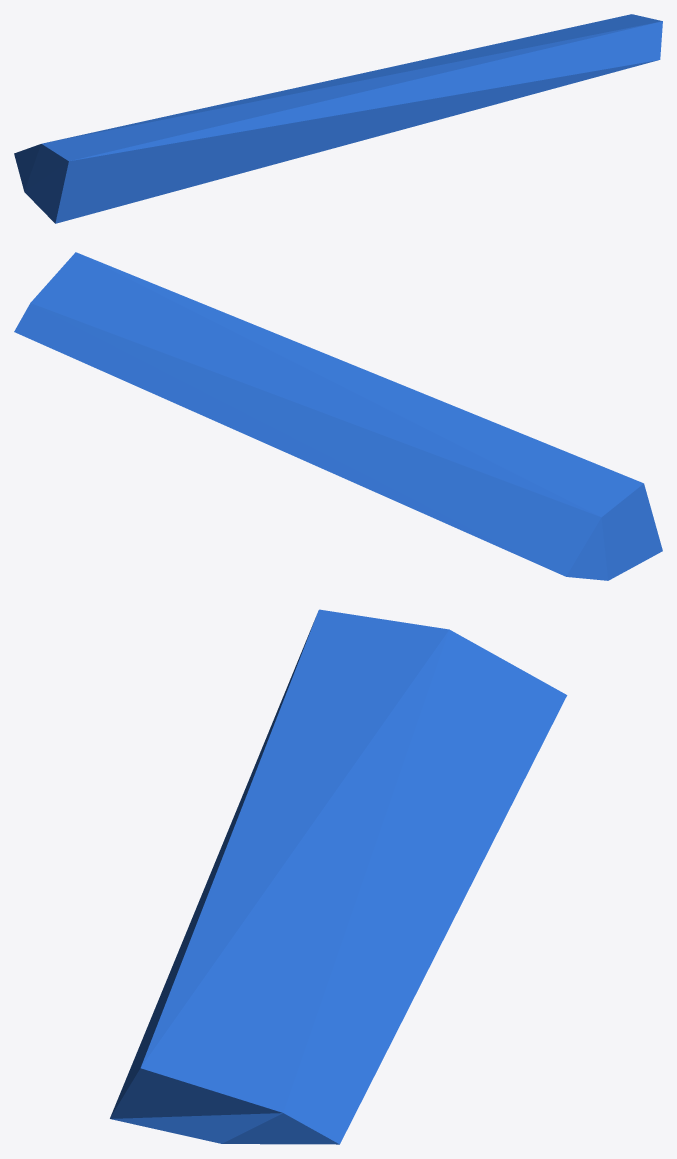
File: aileron.dae
The picture shows the model from 3 angles, top to bottom: view 1: azimuth 30°, elevation 25°; view 2: azimuth 150°, elevation 25°; view 3: azimuth 270°, elevation 25°; orthographic projection. The views are drawn at different scales.
Parts seen in each view (by area): view 1: Cylinder_001; view 2: Cylinder_001; view 3: Cylinder_001.
Part boxes in pixels (x1,y1,x2,y2): Cylinder_001: [14, 14, 662, 223]; Cylinder_001: [14, 252, 662, 580]; Cylinder_001: [110, 609, 567, 1144].
Bounding box in the file's own units: 4.57 × 1.59 × 0.739.
